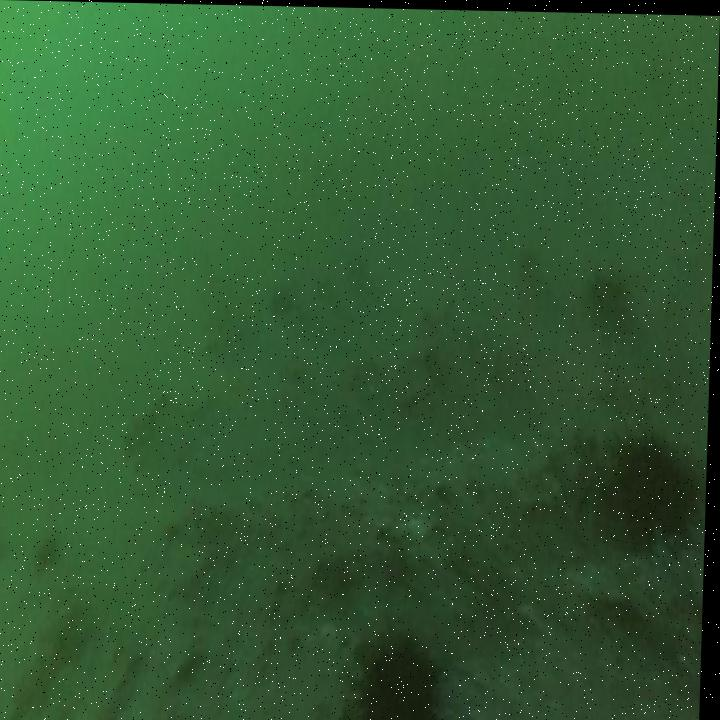echinus: (605, 414, 708, 551), (344, 600, 457, 720)
